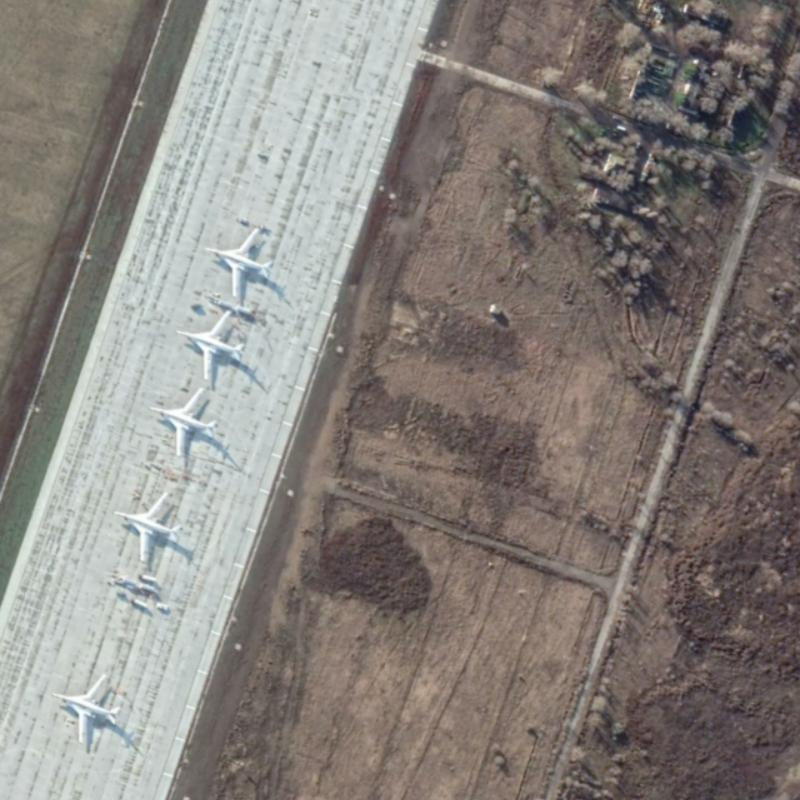A6: (106, 485, 188, 565), (142, 382, 221, 461), (168, 305, 248, 380), (47, 671, 124, 747), (201, 226, 277, 301)
